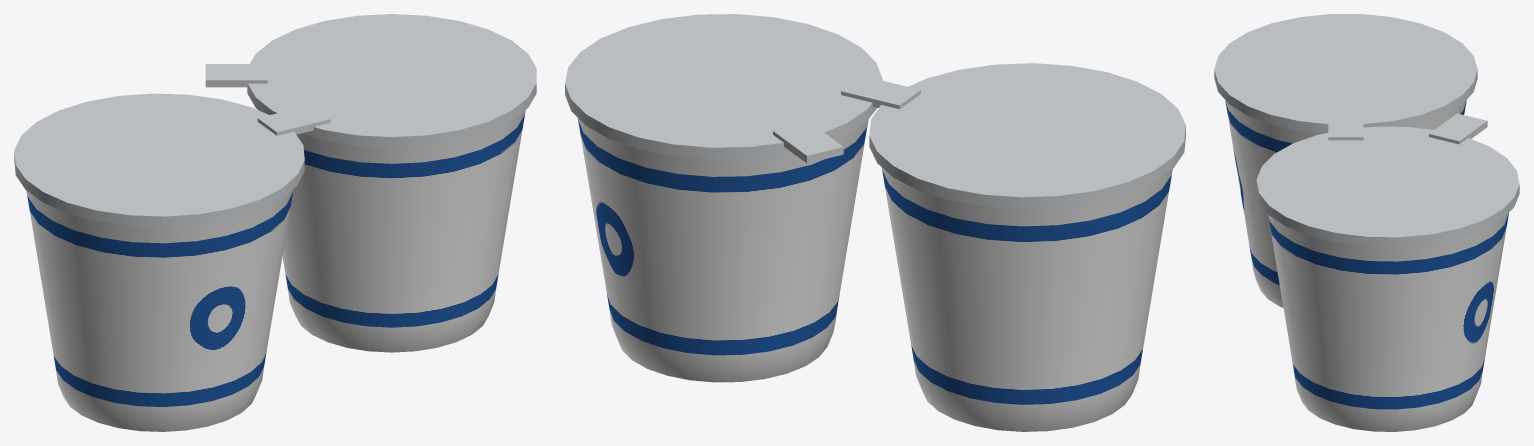
Rendered from Yogurt.fbx.
The picture shows the model from 3 angles, left to right: view 1: azimuth 30°, elevation 25°; view 2: azimuth 150°, elevation 25°; view 3: azimuth 270°, elevation 25°; orthographic projection. The views are drawn at different scales.
Visible parts, largest first — view 1: Yogurt; view 2: Yogurt; view 3: Yogurt.
Part boxes in pixels (<box>): Yogurt: <box>14,14,536,431</box>; Yogurt: <box>565,14,1185,431</box>; Yogurt: <box>1214,14,1519,431</box>.
Bounding box in the file's own units: 0.1506 × 0.068 × 0.087.
3 materials, 1 textured.
